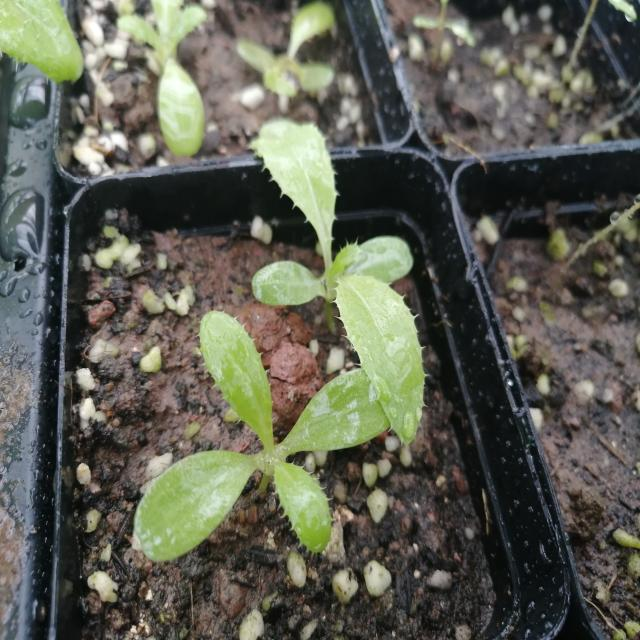field_thistle: (236, 78, 434, 427), (126, 310, 388, 558)
